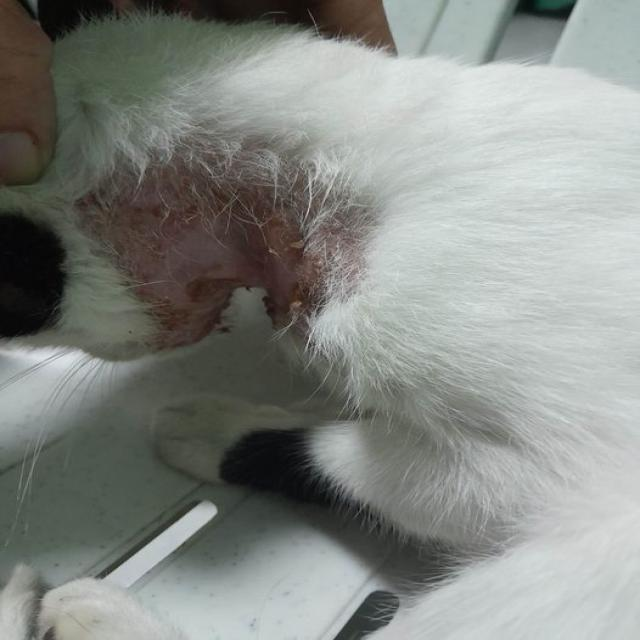Ringworm: (81, 162, 409, 350)
